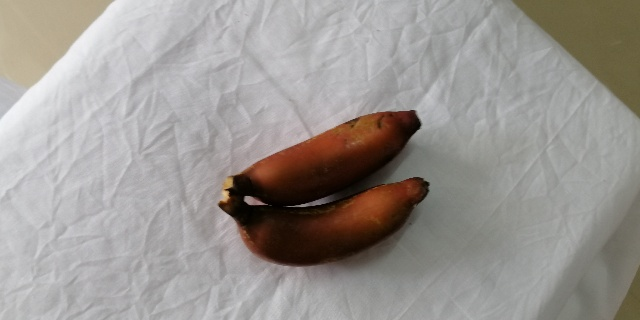banana_red: (220, 110, 424, 205), (218, 177, 433, 267)
